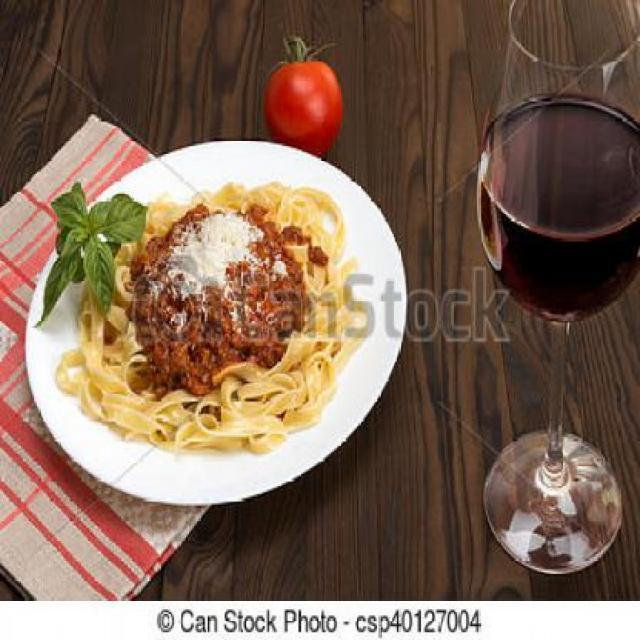Pasta al ragu: (28, 152, 426, 470)
